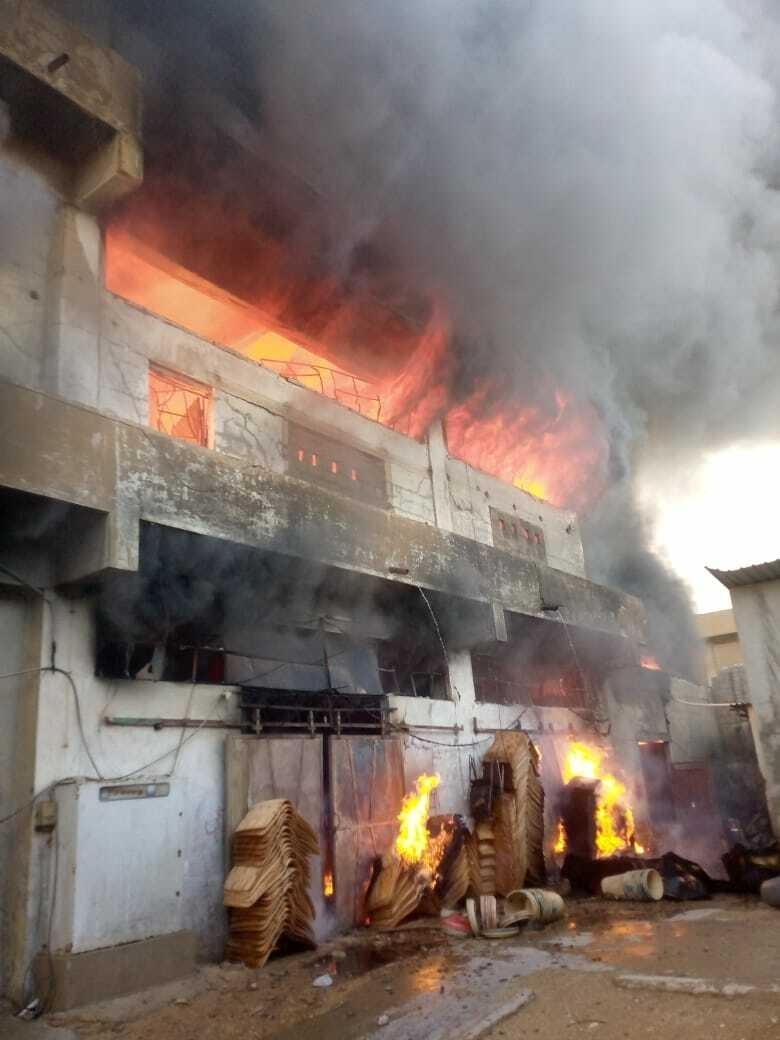fire: (553, 738, 647, 859), (390, 763, 450, 877), (323, 872, 335, 897)
smoke: (188, 0, 780, 253), (383, 254, 780, 506), (105, 521, 407, 641), (574, 510, 712, 681), (427, 557, 495, 645), (282, 257, 375, 317), (643, 802, 721, 858), (623, 738, 671, 800), (496, 628, 551, 680)
